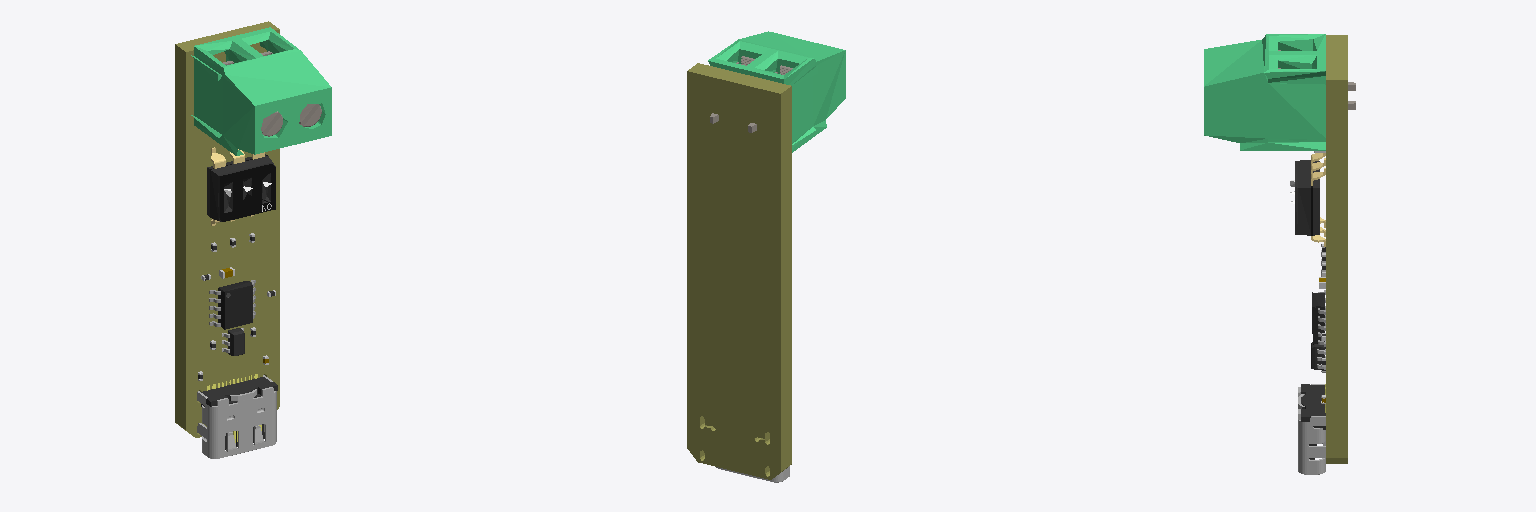
The model's file is OBJ_PCB_PD-trigger.obj.
The picture shows the model from 3 angles: view 1: azimuth 30°, elevation 25°; view 2: azimuth 150°, elevation 25°; view 3: azimuth 270°, elevation 25°; orthographic projection.
Bounding box in the file's own units: 48.8 × 202 × 68.9.